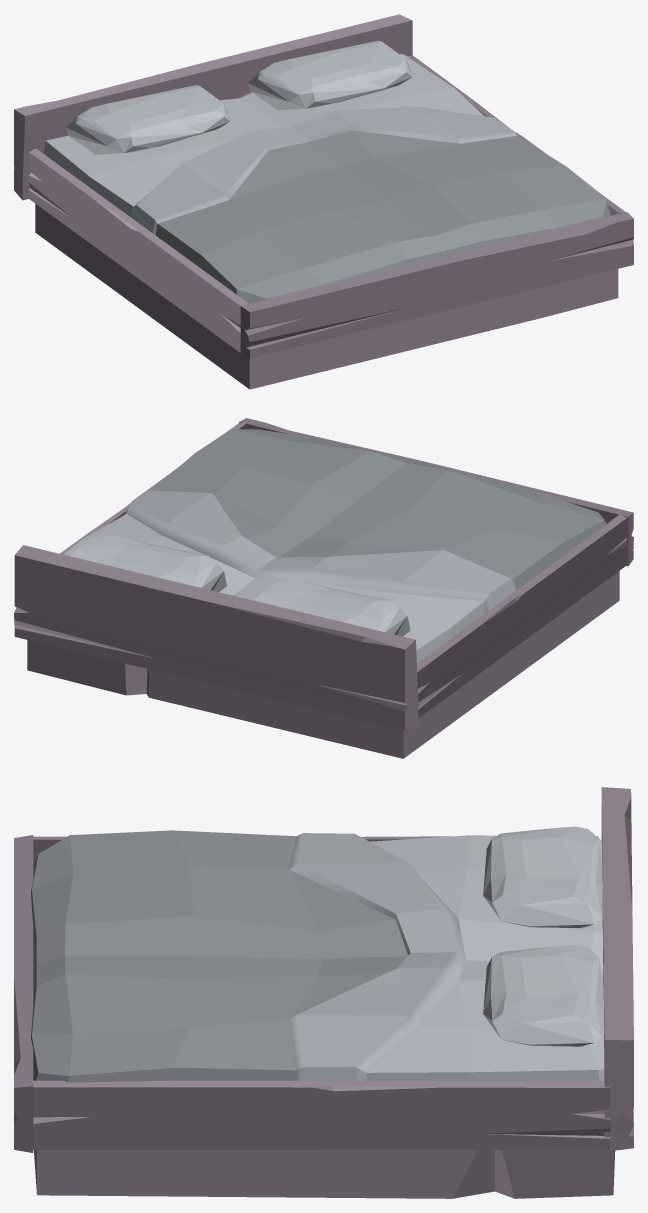
File: SM_Prop_Dubble-Bed_floor.fbx
The picture shows the model from 3 angles, top to bottom: view 1: azimuth 30°, elevation 25°; view 2: azimuth 150°, elevation 25°; view 3: azimuth 270°, elevation 25°; orthographic projection. The views are drawn at different scales.
Parts seen in each view (by area): view 1: SM_Prop_DubbleBed_floor; view 2: SM_Prop_DubbleBed_floor; view 3: SM_Prop_DubbleBed_floor.
Boxes of the visible parts, bbox=[...] form: SM_Prop_DubbleBed_floor: bbox=[14, 14, 633, 389]; SM_Prop_DubbleBed_floor: bbox=[14, 418, 633, 758]; SM_Prop_DubbleBed_floor: bbox=[14, 787, 633, 1198].
Size of the model in its own units: 2.04 by 0.6096 by 2.09.
